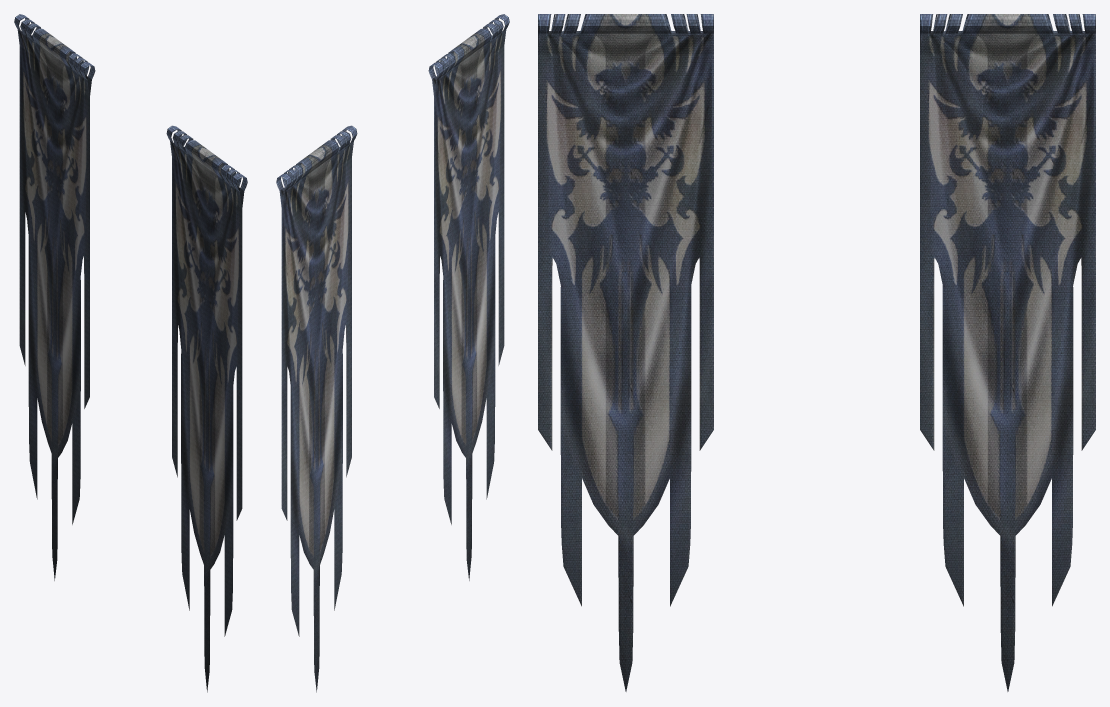
Rendered from bg_lut_lucastle_castleflag03b_sm_bjh.FBX.
The picture shows the model from 3 angles, left to right: view 1: azimuth 30°, elevation 25°; view 2: azimuth 150°, elevation 25°; view 3: azimuth 270°, elevation 25°; orthographic projection. The views are drawn at different scales.
Parts seen in each view (by area): view 1: bg_lut_lucastle_castleflag03b_sm_bjh; view 2: bg_lut_lucastle_castleflag03b_sm_bjh; view 3: bg_lut_lucastle_castleflag03b_sm_bjh.
Part boxes in pixels (left/top/right/bottom): bg_lut_lucastle_castleflag03b_sm_bjh: left=14, top=14, right=247, bottom=692; bg_lut_lucastle_castleflag03b_sm_bjh: left=276, top=14, right=509, bottom=692; bg_lut_lucastle_castleflag03b_sm_bjh: left=538, top=14, right=1095, bottom=691.
Bounding box in the file's own units: 3.94 × 185 × 138.
